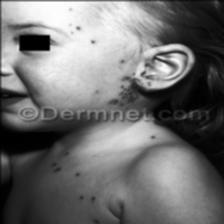Toxin: (106, 74, 152, 104), (50, 161, 63, 172)
